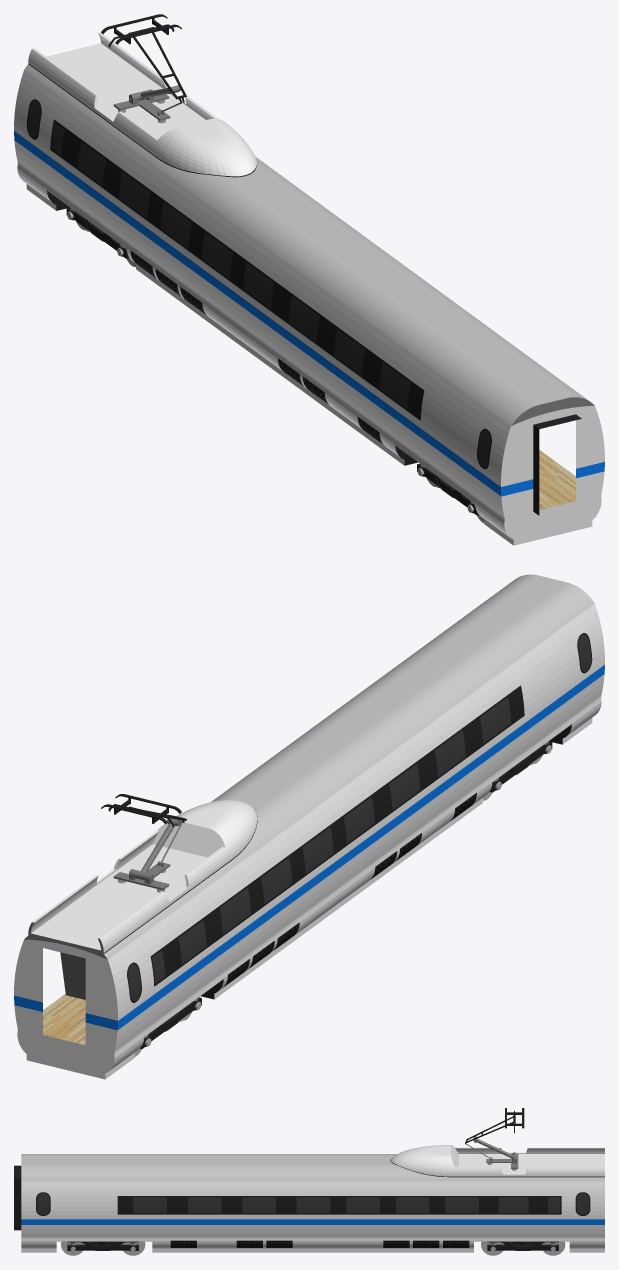
The model's file is VELARO-simple-car2.glb.
3 renders of one model, top to bottom at view 1: azimuth 30°, elevation 25°; view 2: azimuth 150°, elevation 25°; view 3: azimuth 270°, elevation 25°, orthographic. The views are drawn at different scales.
Parts seen in each view (by area): view 1: Componente#4; view 2: Componente#4, bbt4.021; view 3: Componente#4.
Part boxes in pixels (box(x1,y1,x2,y2)): Componente#4: box(14, 14, 604, 545); Componente#4: box(14, 574, 604, 1079); bbt4.021: box(60, 952, 85, 999); Componente#4: box(14, 1108, 604, 1252).
Size of the model in its own units: 2.94 by 5.99 by 24.16.
Materials: 11 (2 with a texture image).
